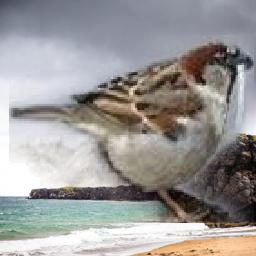Sparrow: (10, 35, 255, 223)
